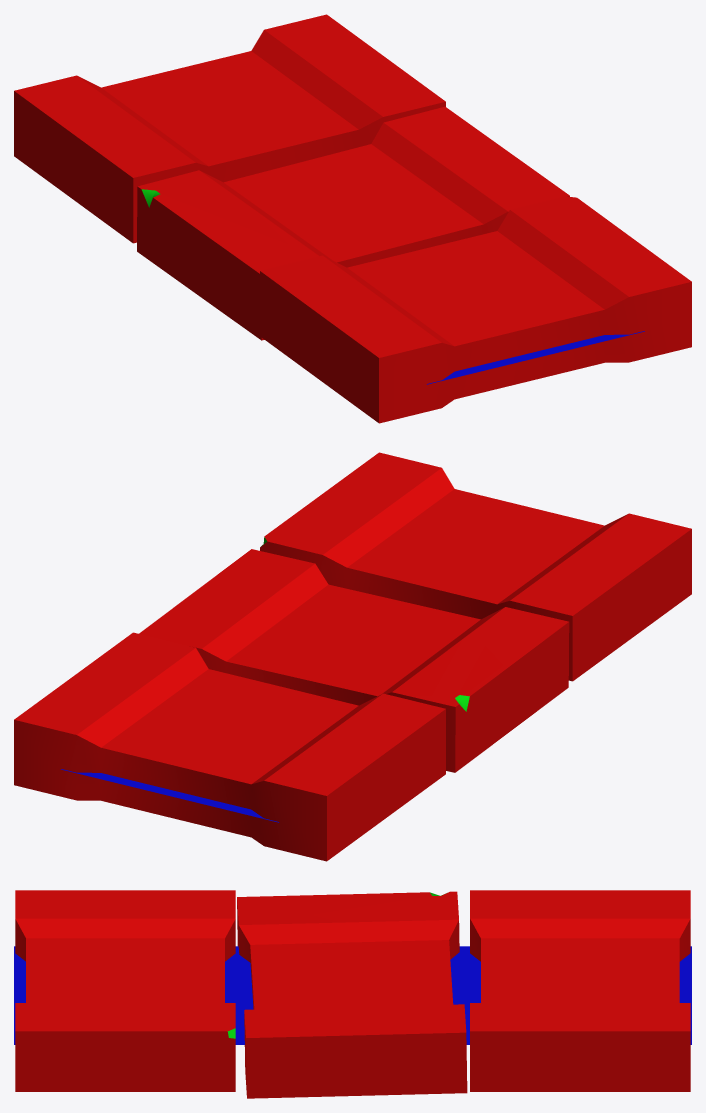
The model's file is Drain_coverX3.FBX.
3 views of the same model, one above another, from view 1: azimuth 30°, elevation 25°; view 2: azimuth 150°, elevation 25°; view 3: azimuth 270°, elevation 25° (orthographic). The views are drawn at different scales.
Visible parts, largest first — view 1: Box001; view 2: Box001; view 3: Box001.
Part boxes in pixels (x1,y1,x2,y2): Box001: (14, 14, 691, 423); Box001: (14, 452, 691, 861); Box001: (14, 890, 691, 1098).
Size of the model in its own units: 0.5088 by 1.01 by 0.109.
